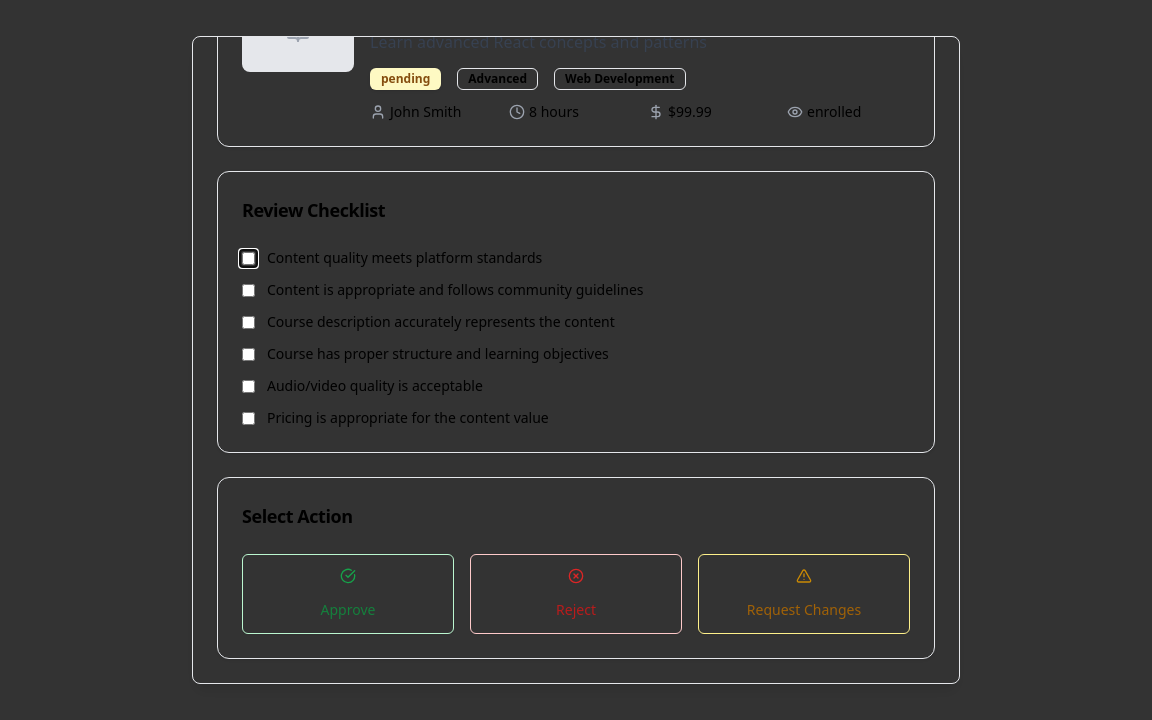
CourseApprovalModal › allows going back from action form
The width and height of the screenshot is (1152, 720).
(page scrolled)
# Select approve action
Click the button "Approve" at (348, 594), box [242,554,454,634]
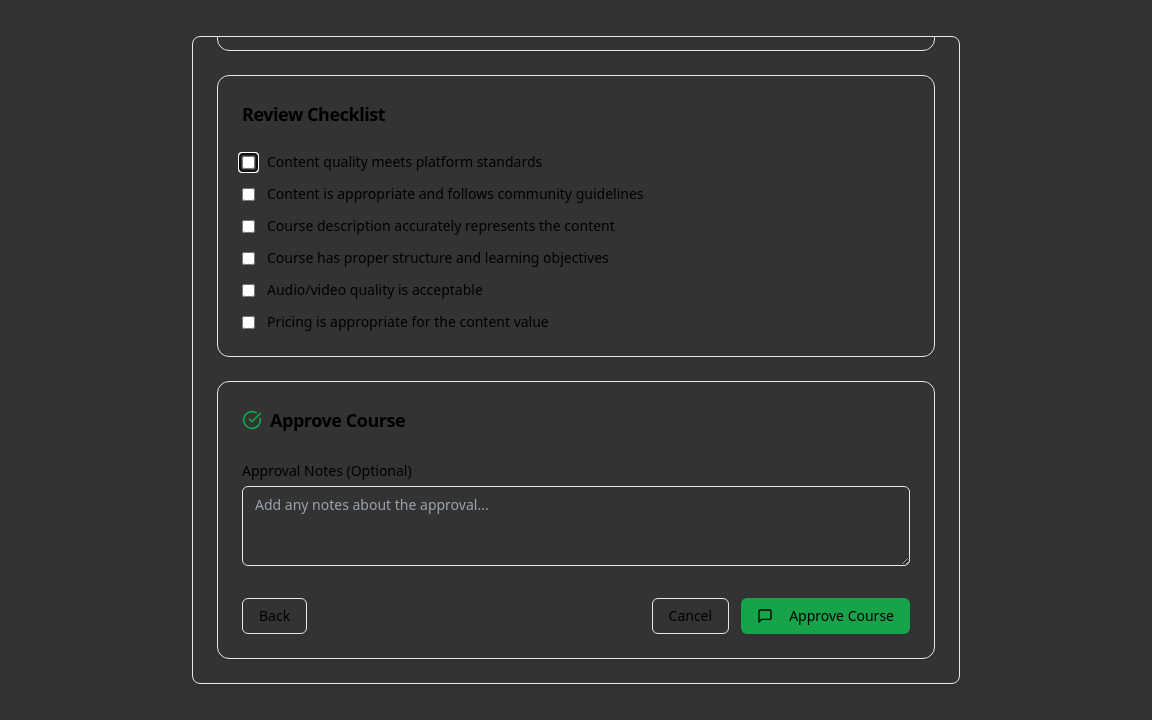
#  Go back
Click the button "Back" at (275, 616), box [242,598,307,634]
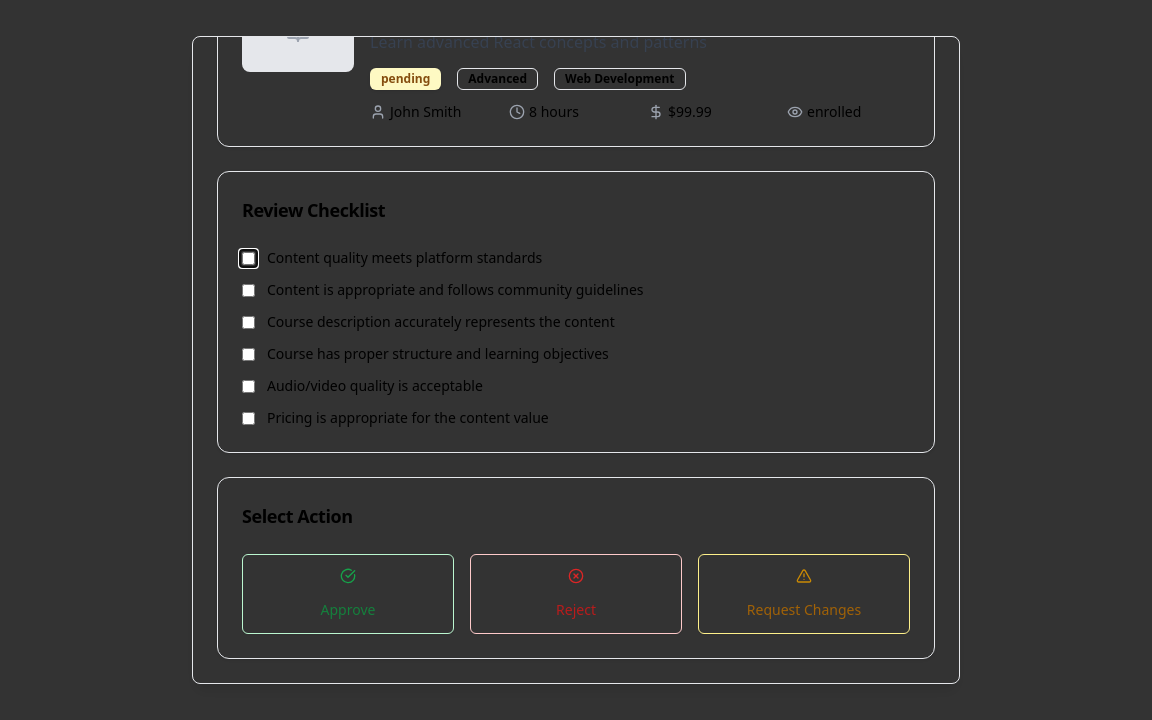
Check: the text "Select Action" is shown, box [242,504,352,528]
